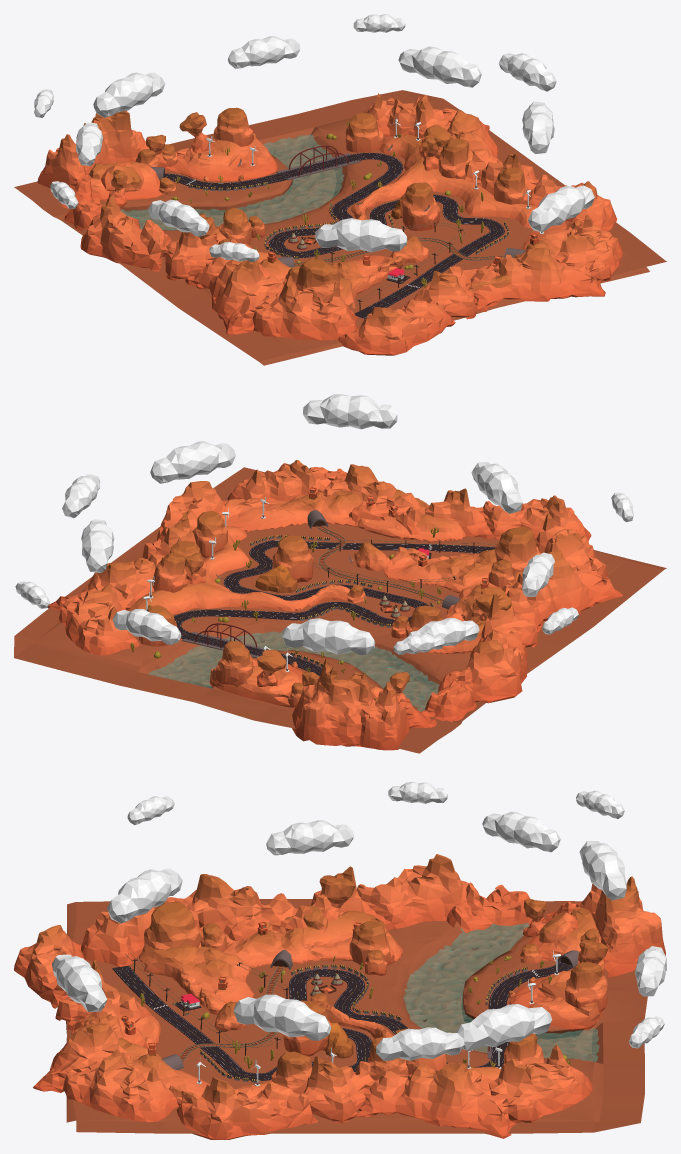
File: track.gltf
The picture shows the model from 3 angles, top to bottom: view 1: azimuth 30°, elevation 25°; view 2: azimuth 150°, elevation 25°; view 3: azimuth 270°, elevation 25°; orthographic projection. The views are drawn at different scales.
Visible parts, largest first — view 1: mountains, terrain, track_collideable, water, cloud.012, track, cloud.006, cloud.011, cloud.007, cloud.001, cloud.002, cloud.009 (+4 smaller); view 2: mountains, terrain, track_collideable, water, track, cloud.007, cloud.011, cloud, cloud.012, cloud.001, cloud.006, cloud.008 (+5 smaller); view 3: mountains, terrain, track_collideable, water, cloud, cloud.006, track, cloud.012, cloud.009, cloud.002, cloud.007, cloud.008 (+6 smaller).
Boxes of the visible parts, x1,y1,x2,y2 form: mountains: (37, 93, 622, 355); terrain: (14, 90, 666, 365); track_collideable: (150, 147, 525, 319); water: (120, 134, 343, 230); cloud.012: (315, 218, 407, 252); track: (171, 119, 543, 307); cloud.006: (398, 46, 481, 87); cloud.011: (93, 72, 165, 117); cloud.007: (528, 185, 594, 231); cloud.001: (228, 36, 300, 68); cloud.002: (148, 199, 209, 236); cloud.009: (498, 53, 556, 91); mountains: (47, 460, 622, 750); terrain: (14, 467, 666, 753); track_collideable: (173, 510, 494, 676); water: (148, 631, 439, 711); track: (130, 487, 496, 675); cloud.007: (303, 394, 397, 429); cloud.011: (282, 618, 375, 654); cloud: (150, 441, 235, 483); cloud.012: (471, 462, 522, 513); cloud.001: (112, 609, 181, 644); cloud.006: (81, 519, 114, 572); cloud.008: (408, 618, 479, 649); mountains: (14, 854, 665, 1139); terrain: (66, 899, 647, 1133); track_collideable: (112, 949, 578, 1083); water: (403, 923, 599, 1061); cloud: (233, 994, 331, 1040); cloud.006: (456, 1004, 552, 1050); track: (121, 922, 570, 1086); cloud.012: (107, 868, 182, 923); cloud.009: (376, 1027, 464, 1060); cloud.002: (266, 820, 353, 855); cloud.007: (52, 954, 107, 1011); cloud.008: (482, 811, 560, 852).
Size of the model in its own units: 24.47 by 5.3 by 24.65.
11 materials, 2 textured.
